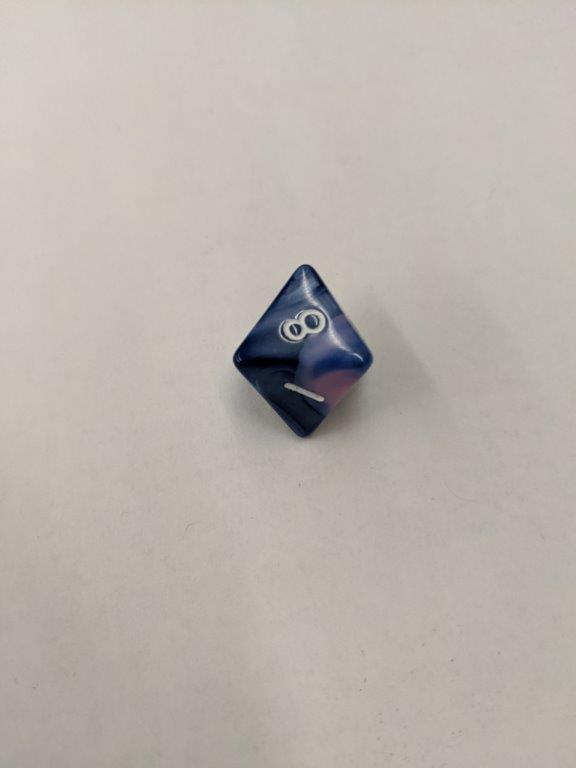d8-8: (232, 263, 378, 445)
